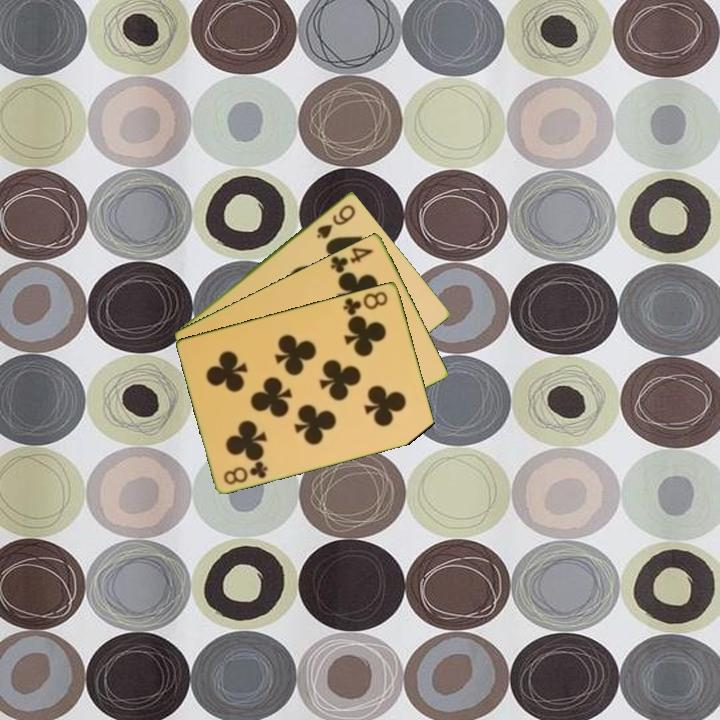4c: (327, 243, 376, 276)
8c: (340, 287, 391, 318), (220, 457, 271, 487)
9s: (313, 201, 359, 241)
